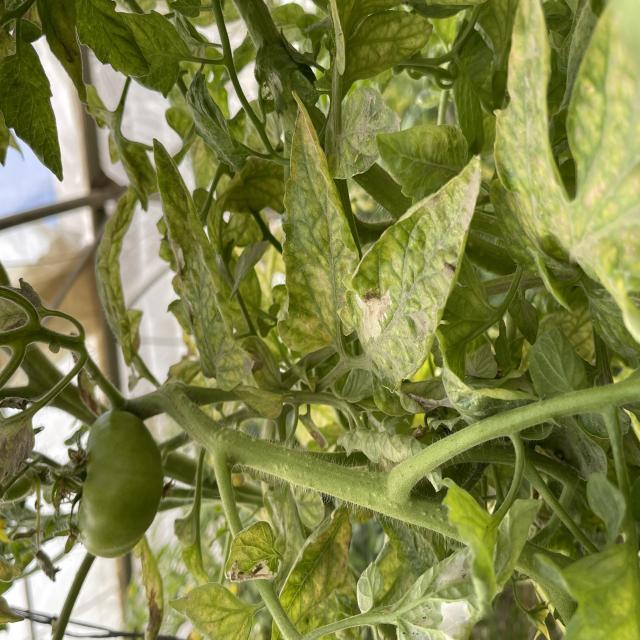Tuta absoluta: (355, 288, 398, 341)
